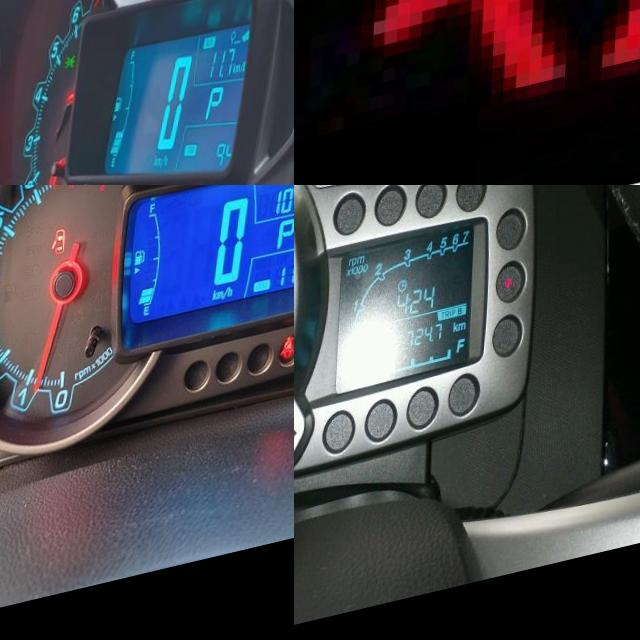SideLamp: (65, 64, 77, 82)
